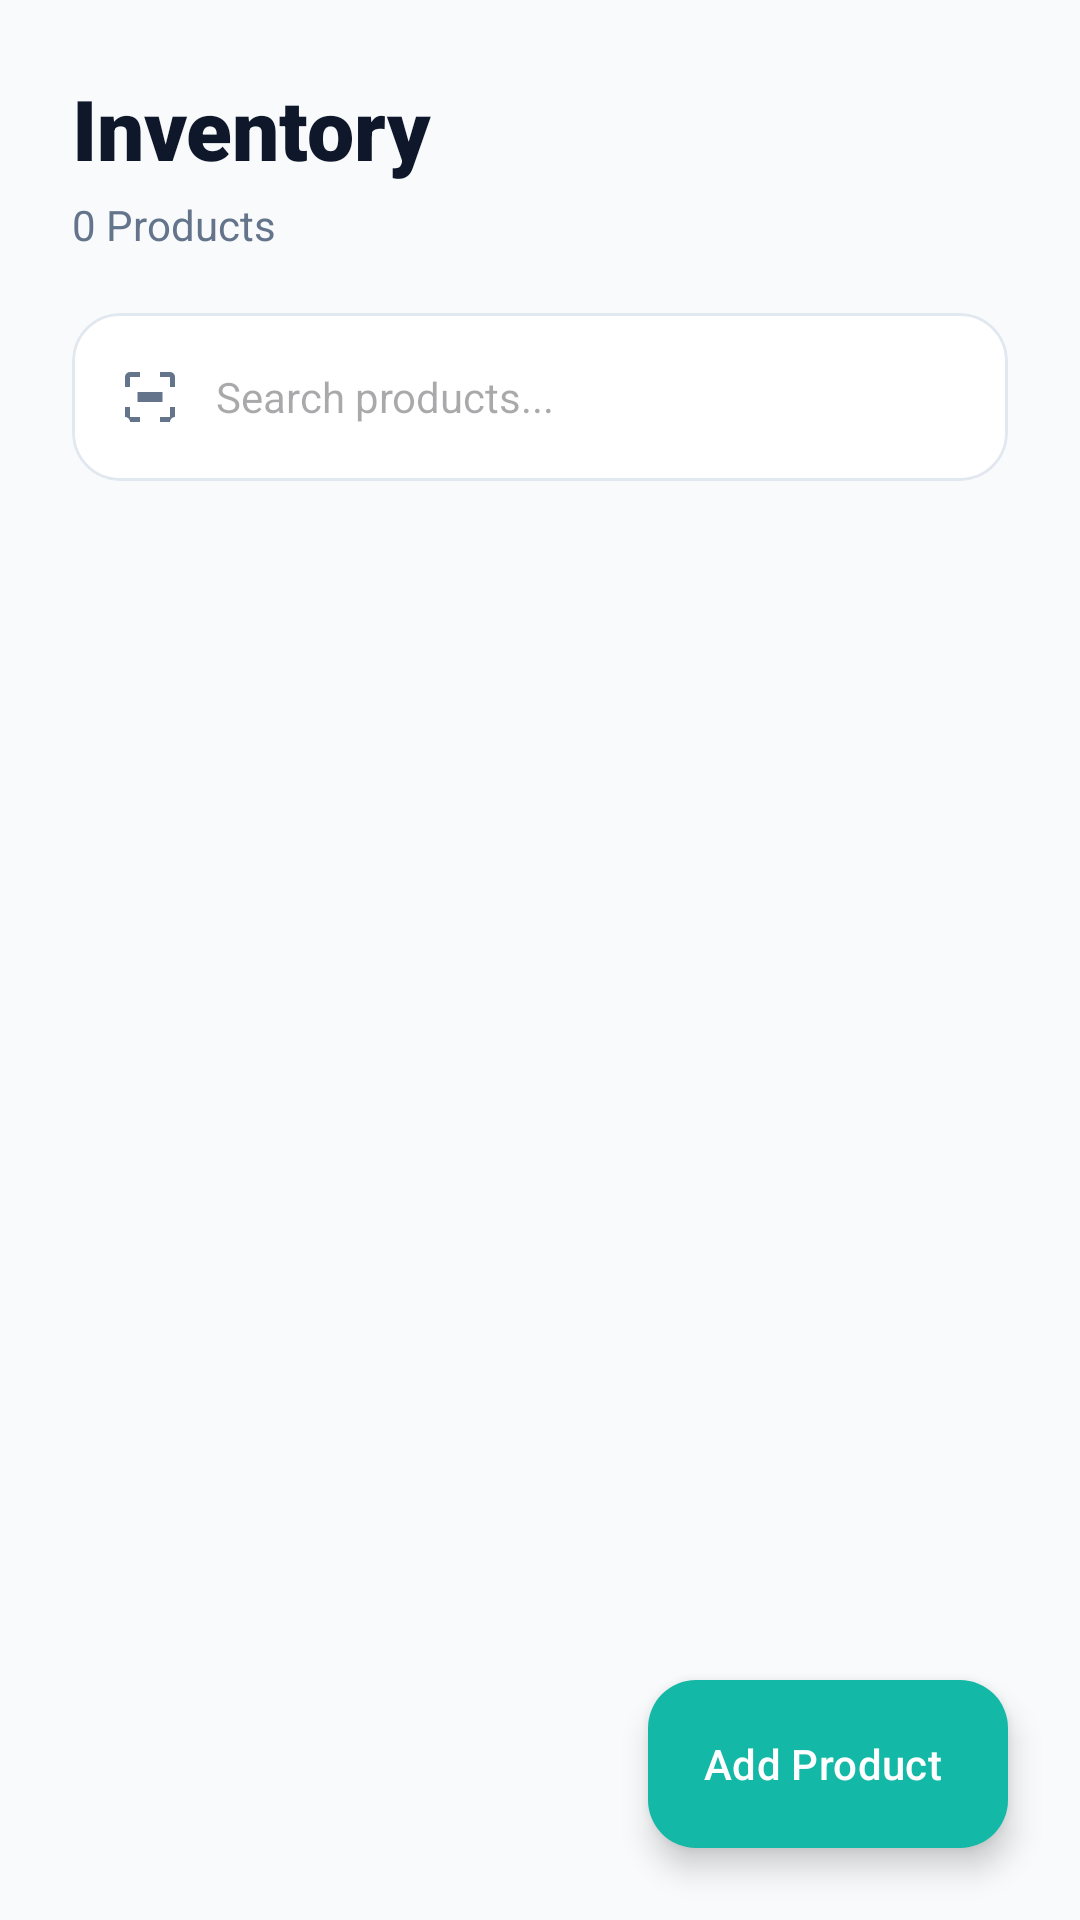

Named icons in this screenshot (1080px x 1920px) and their centers, point (x, y):
scan: point (150, 397)
